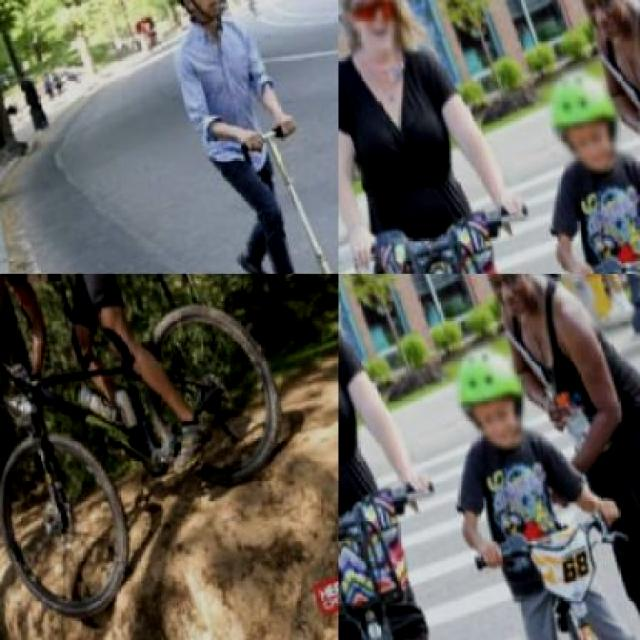With Helmet: (438, 334, 539, 472), (532, 58, 633, 194), (154, 0, 232, 40)
Without Helmet: (338, 0, 417, 85)
